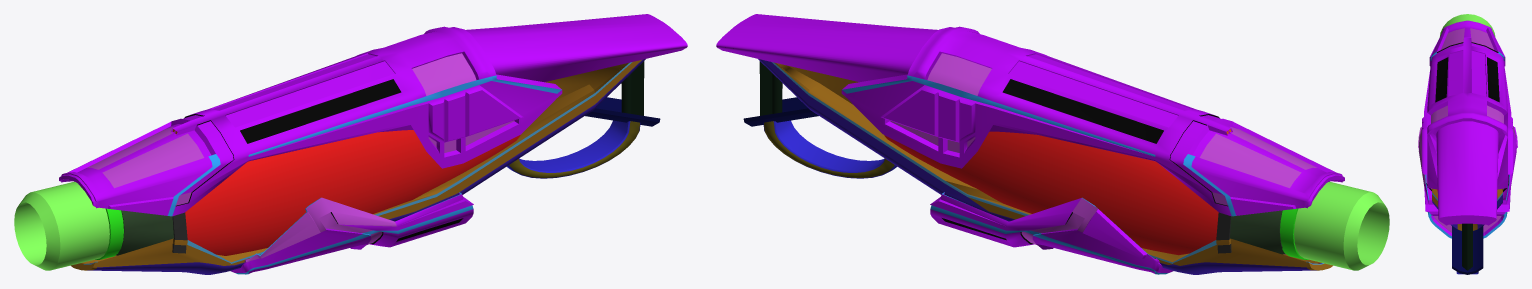
The model's file is Progeny RL Alpha.FBX.
3 renders of one model, left to right at view 1: azimuth 30°, elevation 25°; view 2: azimuth 150°, elevation 25°; view 3: azimuth 270°, elevation 25°, orthographic. The views are drawn at different scales.
Visible parts, largest first — view 1: Box001, Sphere003, Box002, Box003, Cylinder005, Cylinder008, Cylinder003, Cylinder007, Box005, Cylinder004; view 2: Box001, Sphere003, Box002, Box003, Cylinder005, Cylinder008, Cylinder003, Cylinder007, Box005, Cylinder004; view 3: Box001, Box003, Box005, Cylinder007, Cylinder005, Box002.
Boxes of the visible parts, x1=… form: Box001: x1=59, y1=14, x2=687, y2=216; Sphere003: x1=185, y1=130, x2=520, y2=255; Box002: x1=71, y1=59, x2=645, y2=274; Box003: x1=230, y1=192, x2=473, y2=274; Cylinder005: x1=14, y1=181, x2=109, y2=270; Cylinder008: x1=506, y1=120, x2=640, y2=178; Cylinder003: x1=116, y1=210, x2=173, y2=255; Cylinder007: x1=621, y1=61, x2=644, y2=115; Box005: x1=585, y1=97, x2=660, y2=126; Cylinder004: x1=95, y1=208, x2=123, y2=259; Box001: x1=716, y1=14, x2=1344, y2=216; Sphere003: x1=884, y1=131, x2=1218, y2=255; Box002: x1=758, y1=59, x2=1332, y2=274; Box003: x1=930, y1=192, x2=1173, y2=274; Cylinder005: x1=1294, y1=181, x2=1389, y2=270; Cylinder008: x1=763, y1=120, x2=897, y2=178; Cylinder003: x1=1230, y1=210, x2=1284, y2=254; Cylinder007: x1=759, y1=61, x2=782, y2=115; Box005: x1=743, y1=97, x2=818, y2=126; Cylinder004: x1=1280, y1=208, x2=1308, y2=259; Box001: x1=1422, y1=20, x2=1512, y2=225; Box003: x1=1418, y1=126, x2=1517, y2=238; Box005: x1=1452, y1=226, x2=1483, y2=274; Cylinder007: x1=1462, y1=223, x2=1472, y2=270; Cylinder005: x1=1439, y1=14, x2=1495, y2=37; Box002: x1=1432, y1=188, x2=1502, y2=230.
Size of the model in its own units: 32.95 by 9.47 by 6.41.
